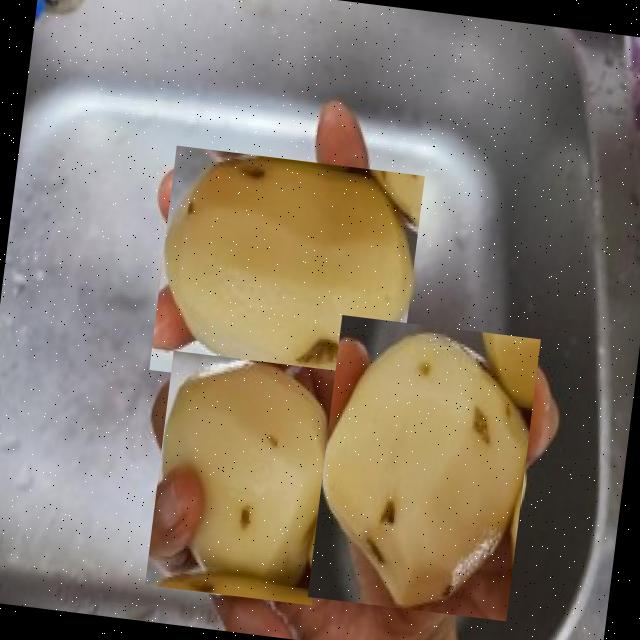Potato: (308, 314, 540, 620), (148, 145, 424, 400), (144, 350, 340, 605)
